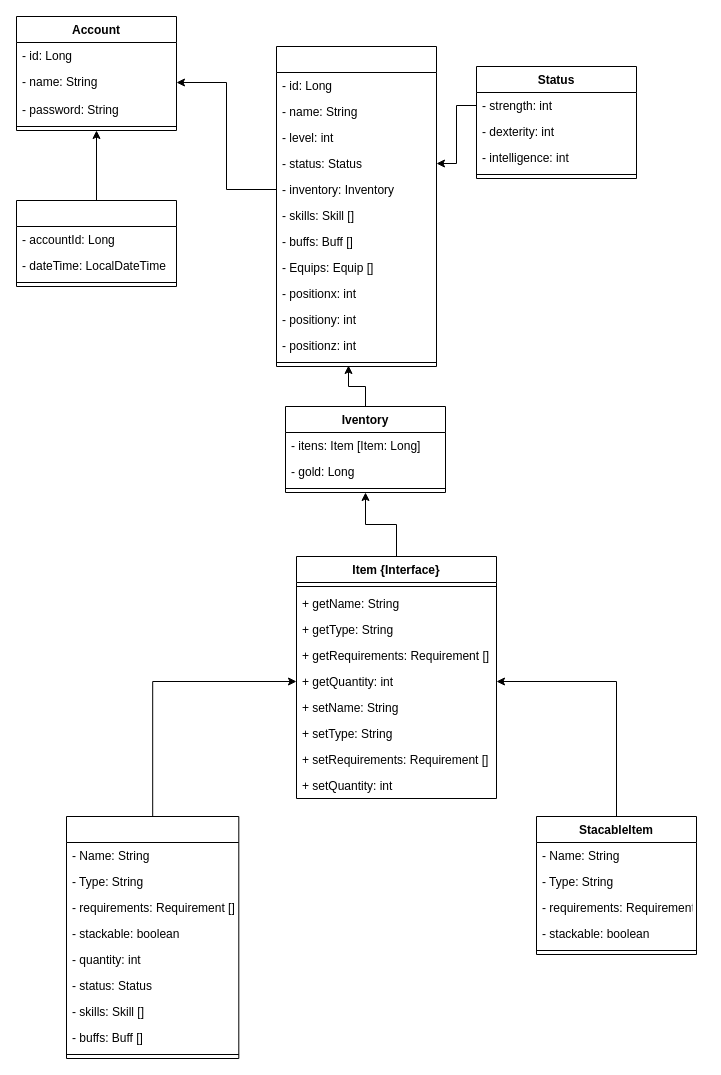
Some shapes in this 721 by 1075 pixel diagram are drawn without their labels. Each missing label, with the box of its shape:
Character: (276, 46, 436, 366)
Equip: (66, 816, 239, 1058)
Log: (16, 200, 176, 286)
